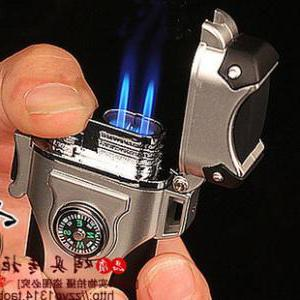fire: (110, 70, 160, 134)
